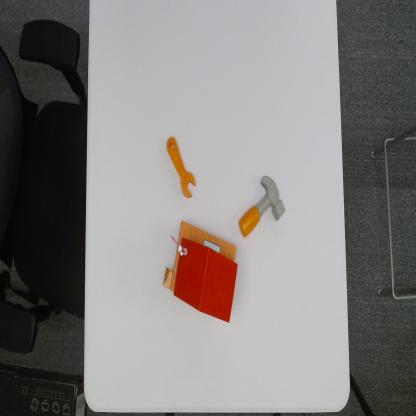Hammer: (238, 173, 287, 240)
House: (162, 216, 238, 325)
Screwdriver: (165, 134, 197, 199)
